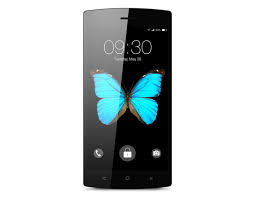bphone: (80, 6, 174, 191)
